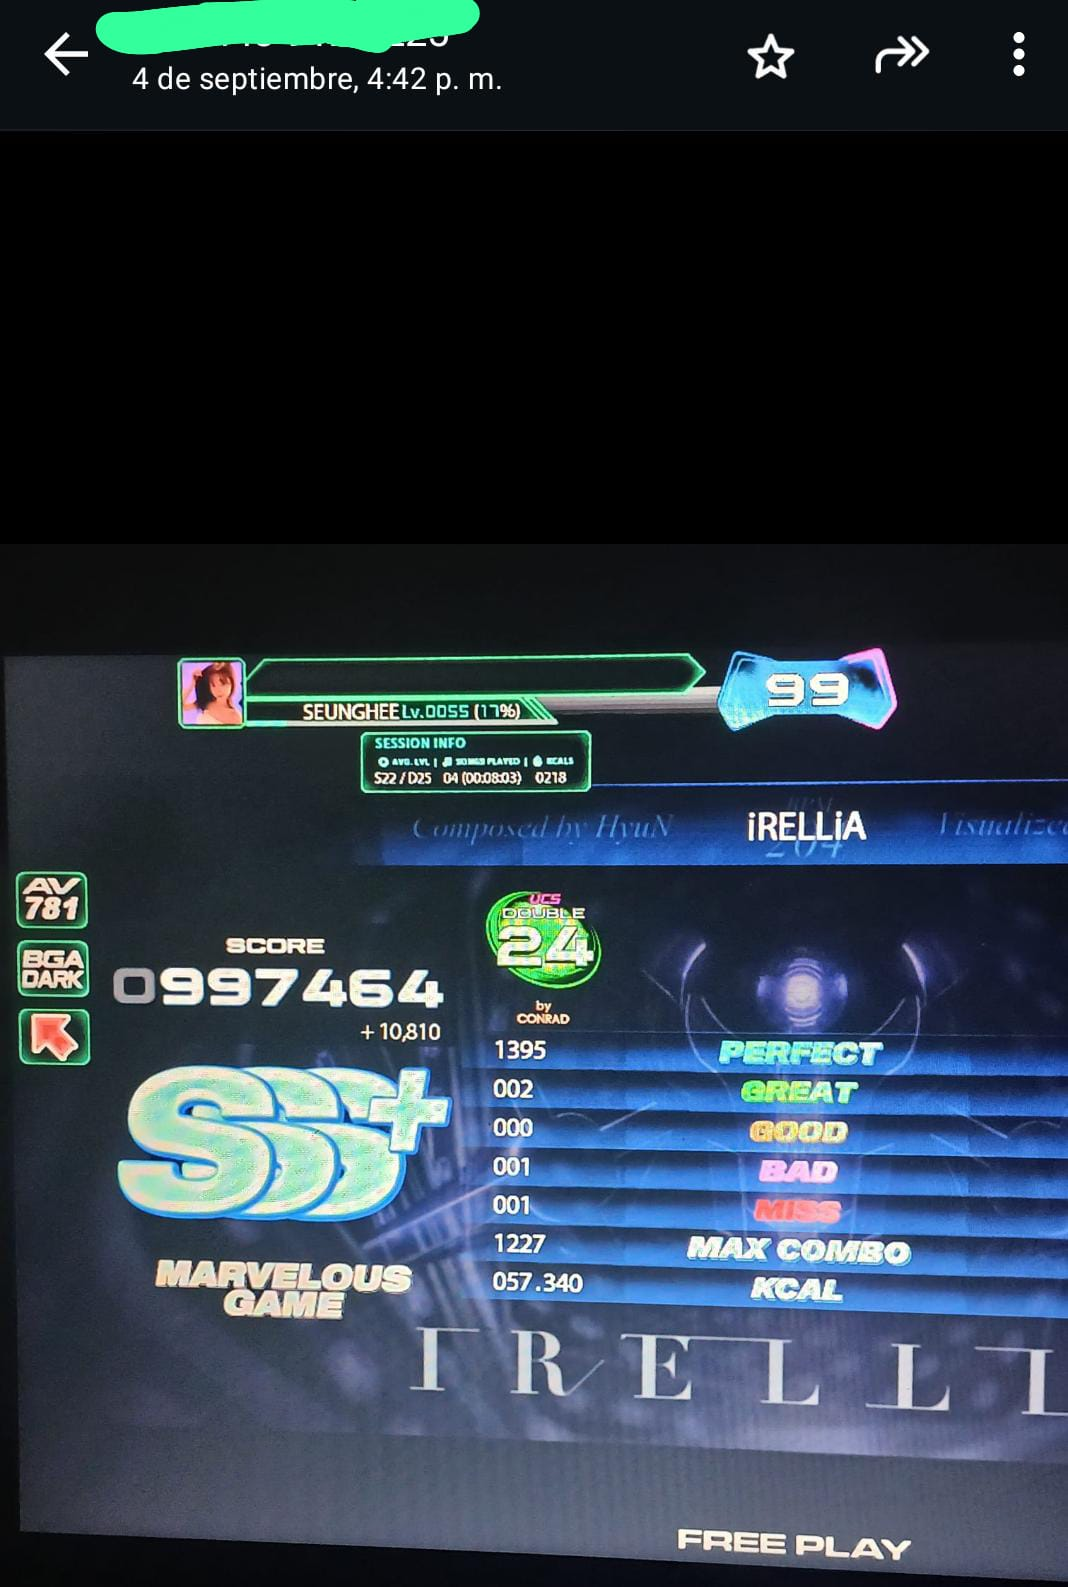difficulty: (452, 865, 622, 1009)
fullscore: (0, 615, 864, 1566)
rank: (100, 1033, 462, 1238)
score: (111, 914, 447, 1020)
song_name: (499, 767, 1049, 875)
